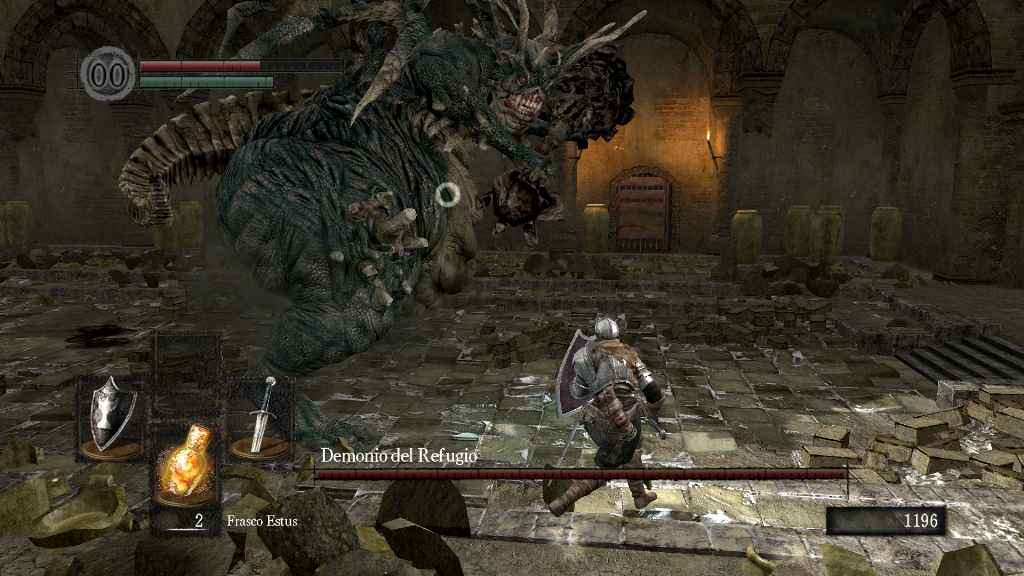asylumDemon: (116, 1, 645, 457)
bossHP: (314, 469, 847, 479)
health: (138, 58, 343, 71)
humanity: (80, 45, 136, 102)
player: (543, 316, 667, 516)
souls: (825, 506, 945, 536)
stamina: (138, 74, 274, 88)
